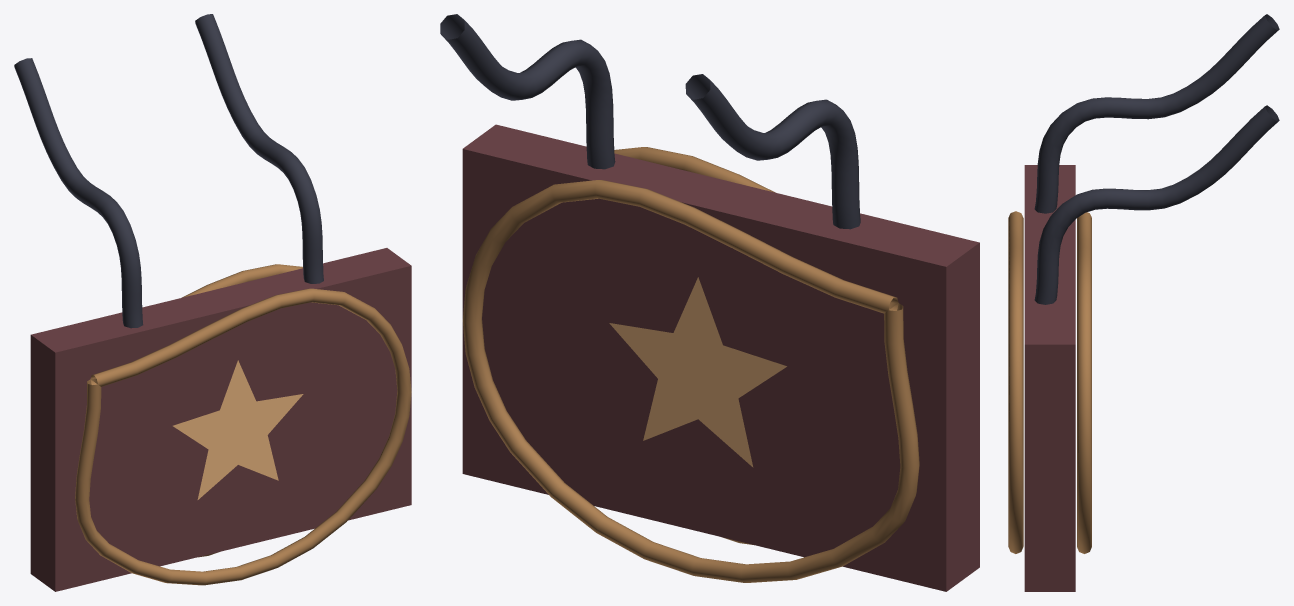
Rendered from workshop-hanging-star.glb.
3 renders of one model, left to right at view 1: azimuth 30°, elevation 25°; view 2: azimuth 150°, elevation 25°; view 3: azimuth 270°, elevation 25°, orthographic. The views are drawn at different scales.
Visible parts, largest first — view 1: Carved lantern sign, Gilt frame.001, Inlay star.001, Hand forged hanger.001, Hand forged hanger, Gilt frame; view 2: Carved lantern sign, Gilt frame, Inlay star, Hand forged hanger, Hand forged hanger.001, Gilt frame.001; view 3: Carved lantern sign, Hand forged hanger.001, Hand forged hanger, Gilt frame.001, Gilt frame.
Part boxes in pixels (box(x1,y1,x2,y2)): Carved lantern sign: box(30, 248, 411, 591); Gilt frame.001: box(75, 288, 411, 585); Inlay star.001: box(173, 360, 303, 499); Hand forged hanger.001: box(195, 14, 323, 283); Hand forged hanger: box(14, 58, 143, 328); Gilt frame: box(181, 264, 302, 557); Carved lantern sign: box(462, 124, 979, 591); Gilt frame: box(462, 180, 919, 582); Inlay star: box(609, 277, 786, 467); Hand forged hanger: box(685, 74, 860, 229); Hand forged hanger.001: box(440, 14, 615, 169); Gilt frame.001: box(614, 147, 775, 545); Carved lantern sign: box(1024, 165, 1075, 591); Hand forged hanger.001: box(1034, 105, 1279, 304); Hand forged hanger: box(1034, 14, 1279, 213); Gilt frame.001: box(1008, 211, 1023, 553); Gilt frame: box(1077, 212, 1091, 553).
Size of the model in its own units: 0.67 by 0.8192 by 0.4276.
